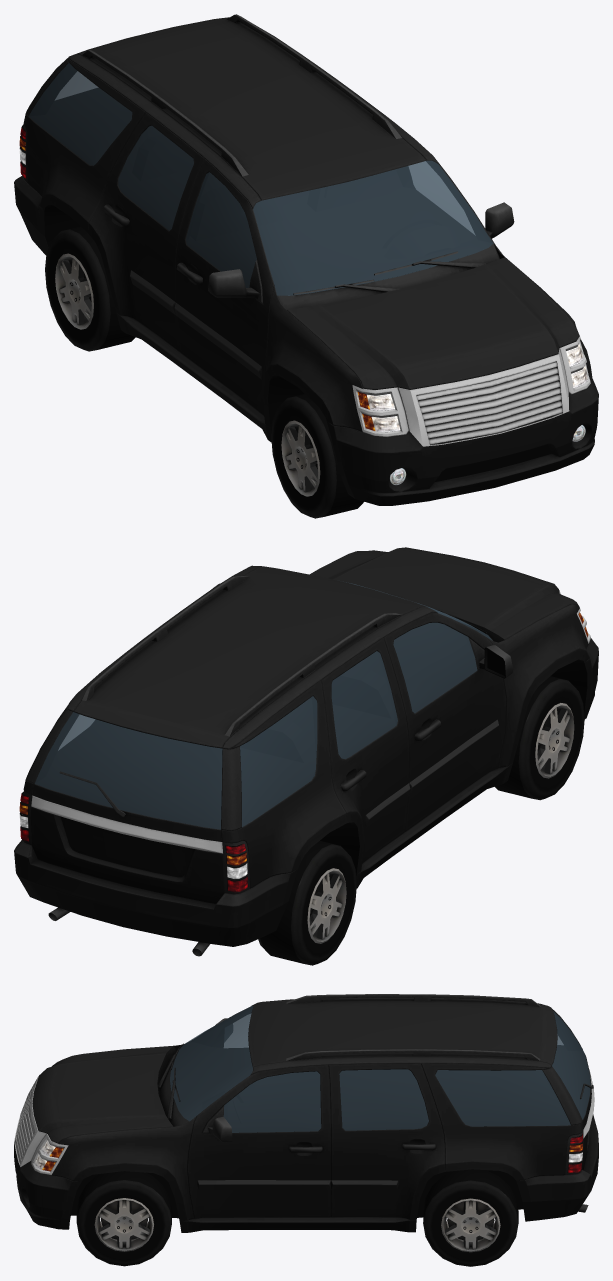
Rendered from road-suv.glb.
The picture shows the model from 3 angles, top to bottom: view 1: azimuth 30°, elevation 25°; view 2: azimuth 150°, elevation 25°; view 3: azimuth 270°, elevation 25°; orthographic projection. The views are drawn at different scales.
Parts seen in each view (by area): view 1: Body, Wheel_RR, Wheel_FR; view 2: Body, Wheel_RR, Wheel_FR; view 3: Body, Wheel_RL, Wheel_FL.
Boxes of the visible parts, bbox=[...] form: Body: bbox=[14, 14, 598, 505]; Wheel_RR: bbox=[45, 226, 135, 351]; Wheel_FR: bbox=[271, 394, 363, 518]; Body: bbox=[14, 547, 598, 956]; Wheel_RR: bbox=[258, 841, 356, 965]; Wheel_FR: bbox=[495, 676, 584, 800]; Body: bbox=[14, 994, 598, 1232]; Wheel_RL: bbox=[423, 1169, 518, 1266]; Wheel_FL: bbox=[76, 1171, 172, 1266].
Bounding box in the file's own units: 2.11 × 1.77 × 4.7.
Materials: 5 (4 with a texture image).
